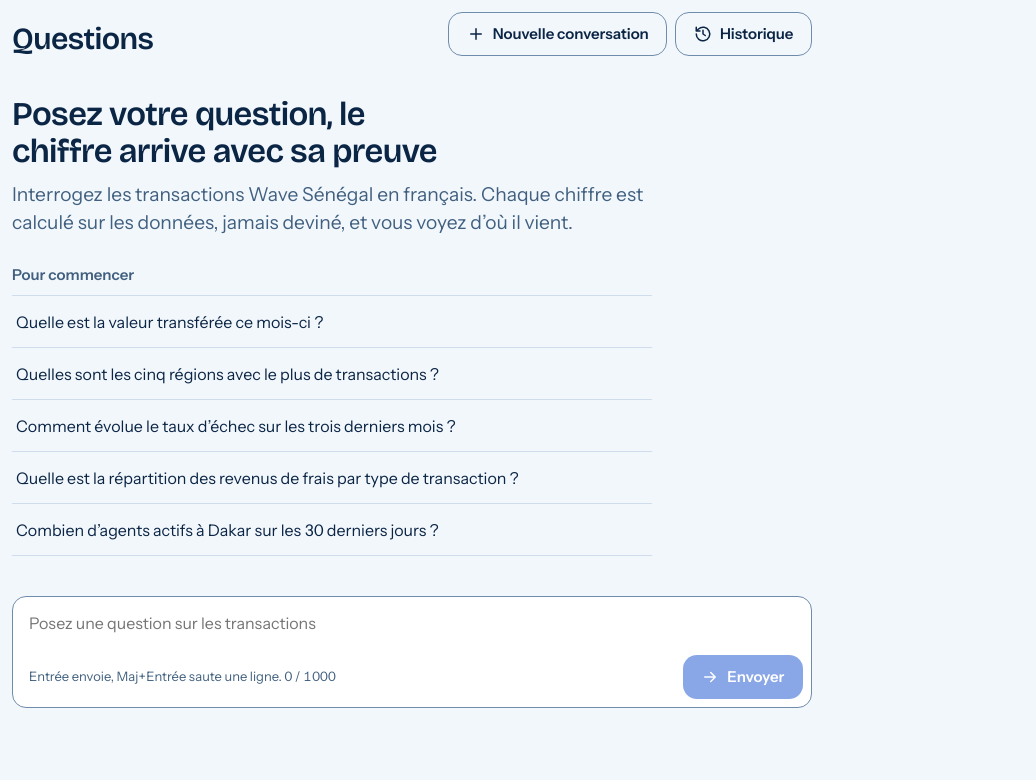
it: Page Questions › trop de flux simultanés (429) : dit dans combien de secondes réessayer
Type "Valeur ?" into the text box named "Votre question". click: (412, 623)
box: [13,597,811,649]
Then press Enter
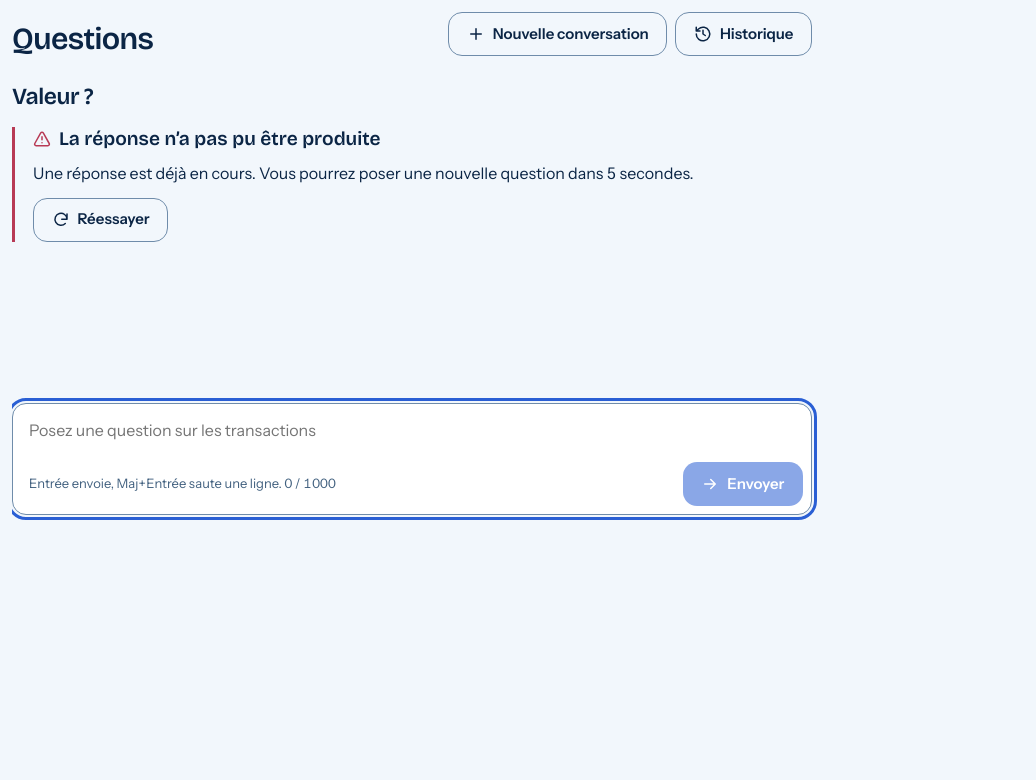
Check: the text "Vous pourrez poser une nouvelle question dans 5 secondes." is shown, box [33,163,694,183]
